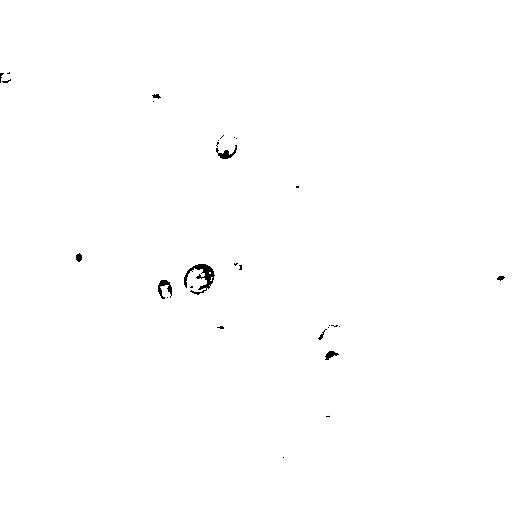micro-algae: (96, 156, 171, 231), (455, 100, 511, 159), (63, 174, 106, 213), (269, 435, 308, 475), (473, 299, 511, 334), (277, 173, 313, 207), (184, 261, 217, 296), (480, 259, 511, 295), (314, 339, 346, 372), (64, 240, 95, 271), (320, 325, 355, 351), (213, 131, 239, 161), (157, 277, 175, 300), (1, 70, 13, 83), (231, 259, 243, 271)
